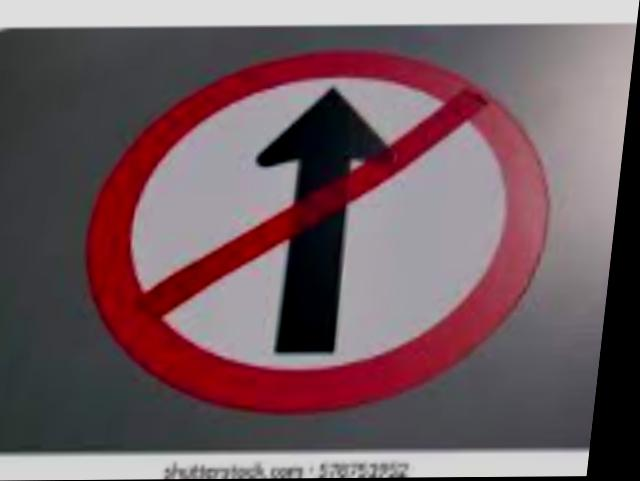not_go_straight: (56, 17, 582, 409)
